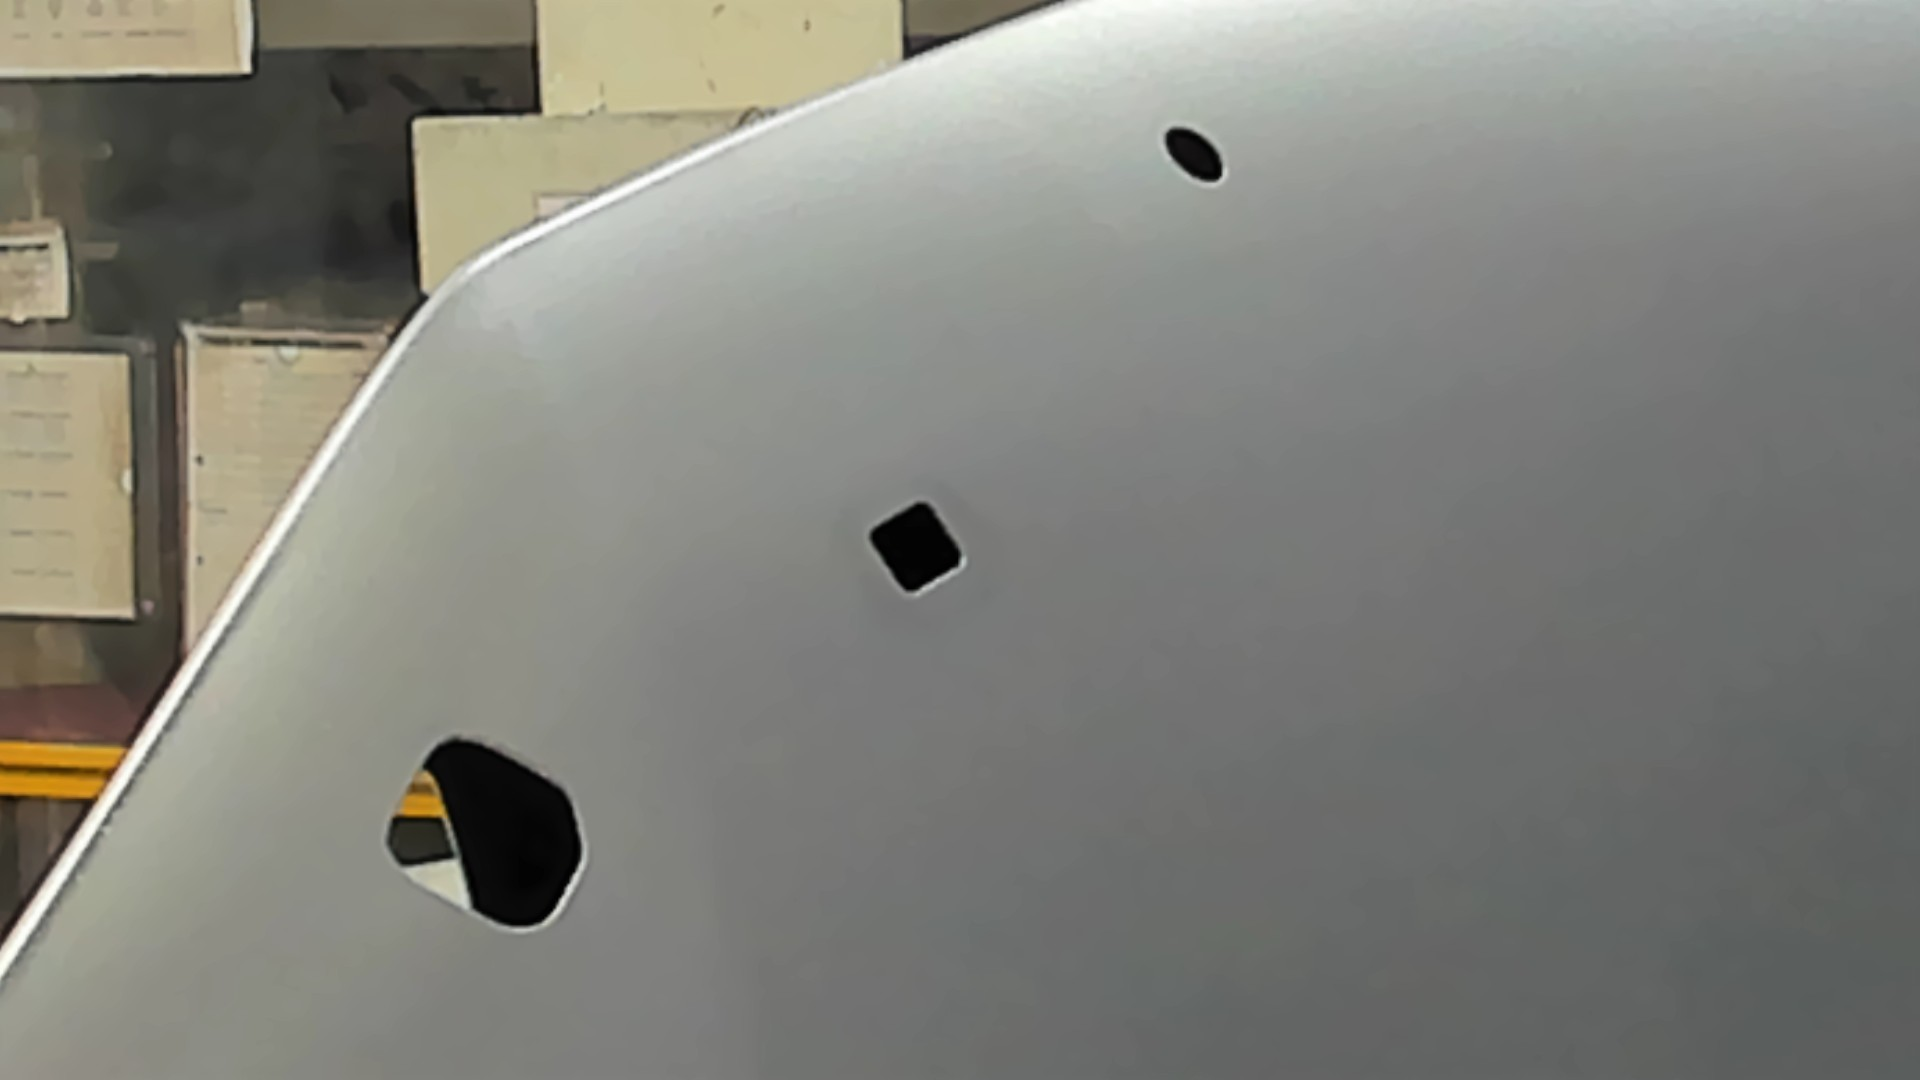chico: (1160, 123, 1229, 186)
grande: (382, 732, 591, 935)
mediano: (866, 497, 968, 599)
